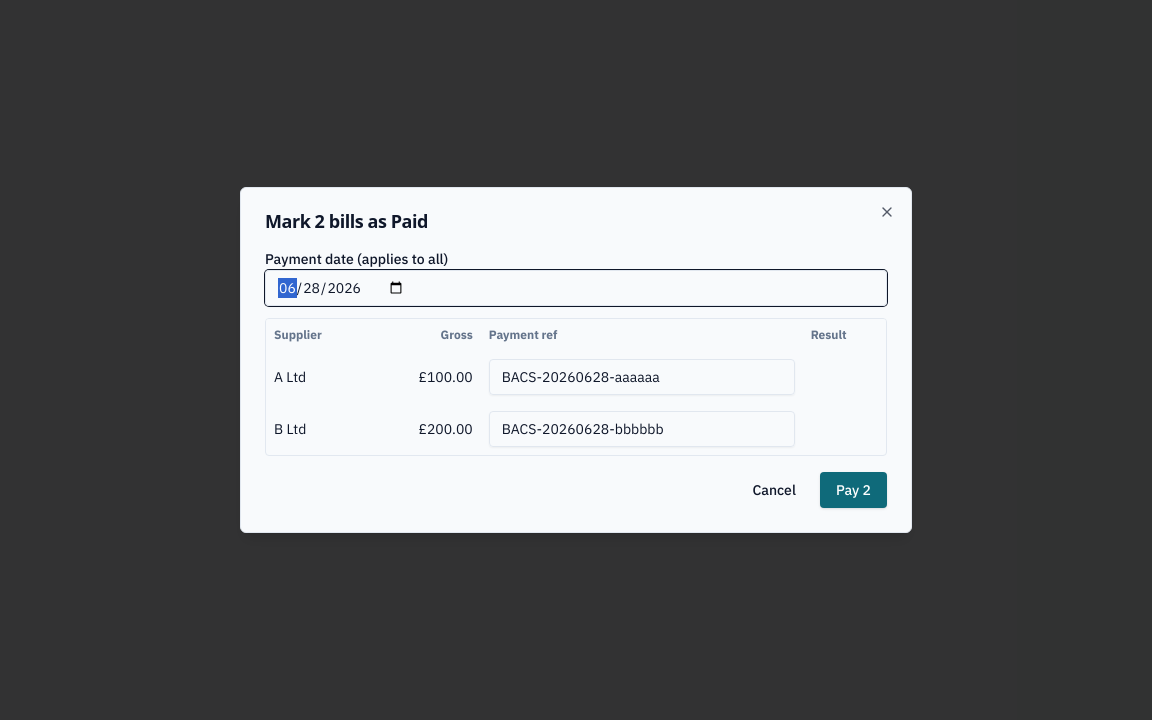
Test: BulkPayDialog › "Pay X" button is disabled when any ref is empty
Expected: the button with test id "bulk-pay-run" is enabled, [820,472,887,508]
// Clear one row's ref
Clear the field in the row of "A Ltd" at (642, 377), box [489,359,795,395]
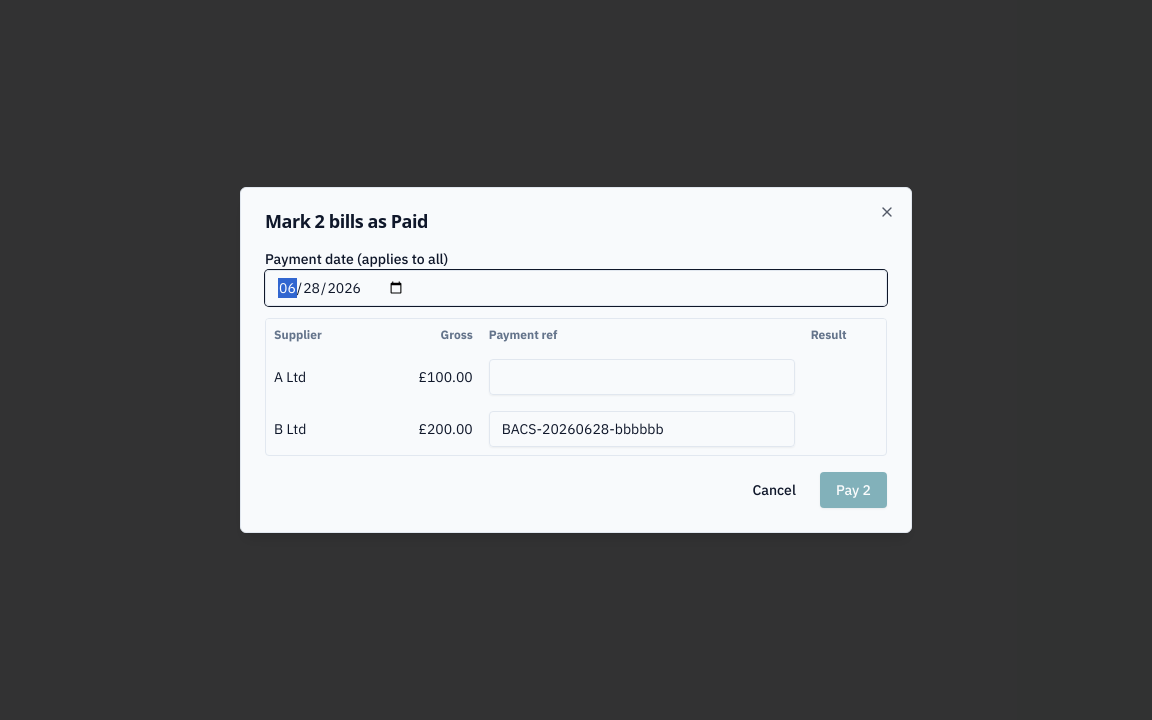
Expected: the button with test id "bulk-pay-run" is disabled, [820,472,887,508]
